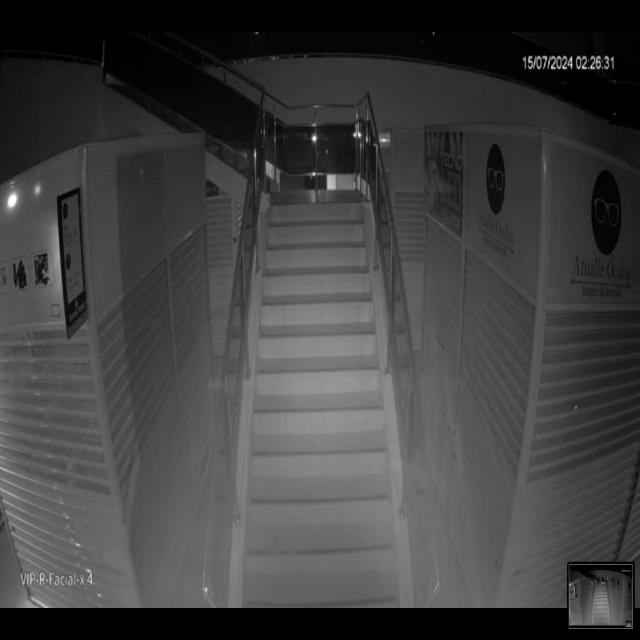Atencao: (143, 288, 536, 602)
